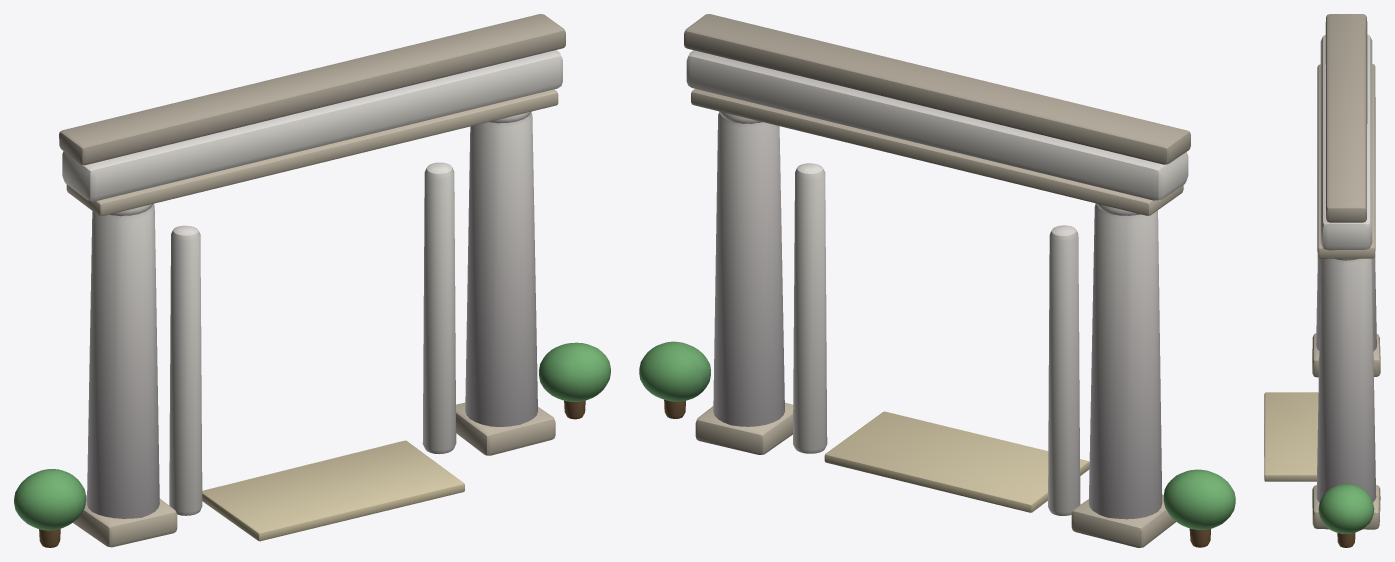
3 views of the same model, side by side, from view 1: azimuth 30°, elevation 25°; view 2: azimuth 150°, elevation 25°; view 3: azimuth 270°, elevation 25° (orthographic). The views are drawn at different scales.
Parts seen in each view (by area): view 1: gate_0f1656c4; view 2: gate_0f1656c4; view 3: gate_0f1656c4.
Part boxes in pixels (box(x1,y1,x2,y2)): gate_0f1656c4: box(14, 14, 610, 547); gate_0f1656c4: box(639, 14, 1235, 547); gate_0f1656c4: box(1264, 14, 1380, 547).
Size of the model in its own units: 6.82 by 4.45 by 1.42.
